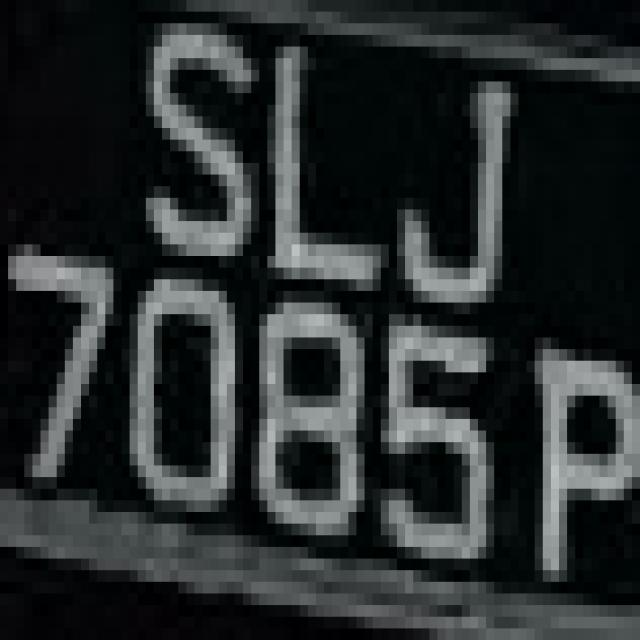0: (105, 256, 243, 547)
5: (348, 268, 502, 605)
7: (16, 210, 122, 536)
8: (259, 279, 389, 582)
J: (372, 35, 542, 314)
L: (251, 24, 405, 338)
P: (510, 291, 640, 617)
S: (122, 23, 251, 303)
